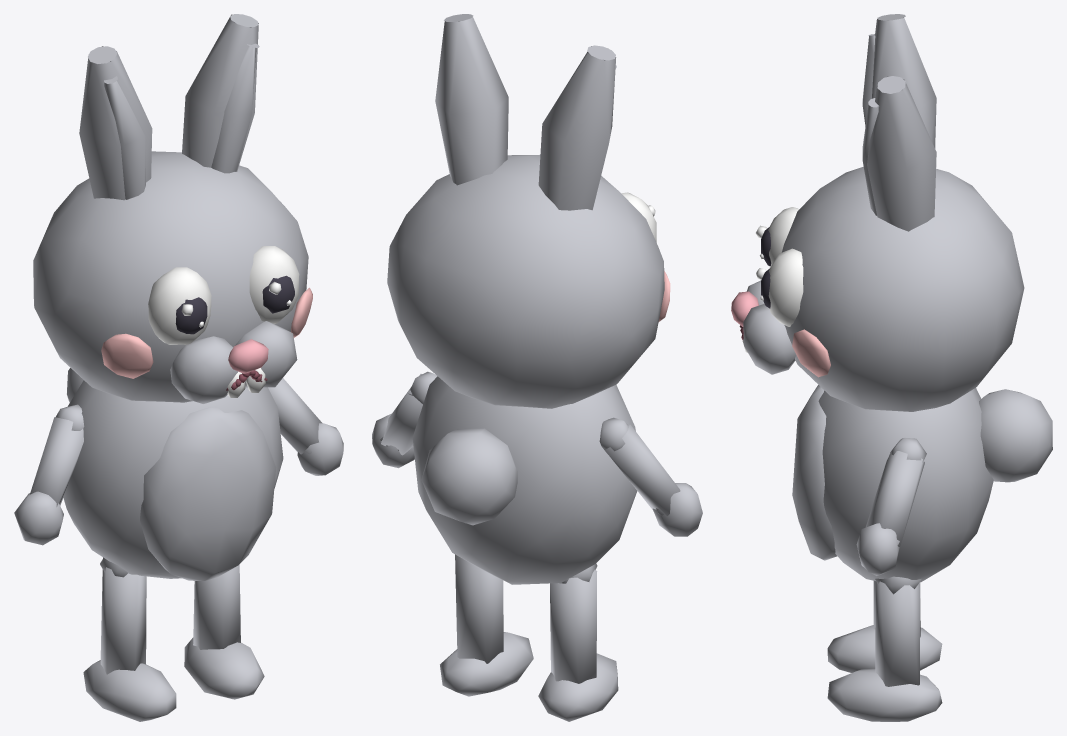
File: Bunny.fbx
3 renders of one model, left to right at view 1: azimuth 30°, elevation 25°; view 2: azimuth 150°, elevation 25°; view 3: azimuth 270°, elevation 25°, orthographic. The views are drawn at different scales.
Visible parts, largest first — view 1: EX_Bunny; view 2: EX_Bunny; view 3: EX_Bunny.
Part boxes in pixels (x1=…): EX_Bunny: x1=14, y1=14, x2=343, y2=721; EX_Bunny: x1=372, y1=14, x2=702, y2=721; EX_Bunny: x1=731, y1=14, x2=1052, y2=721.
Bounding box in the file's own units: 124 × 242 × 109.
